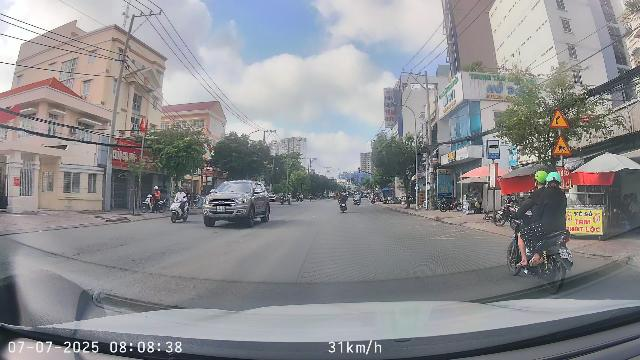201-cho-ngoat-nguy-hiem: (550, 108, 570, 129)
225-chu-y-tre-em: (552, 134, 572, 156)
